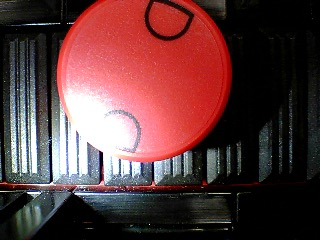MIPO2: (56, 1, 233, 162)
